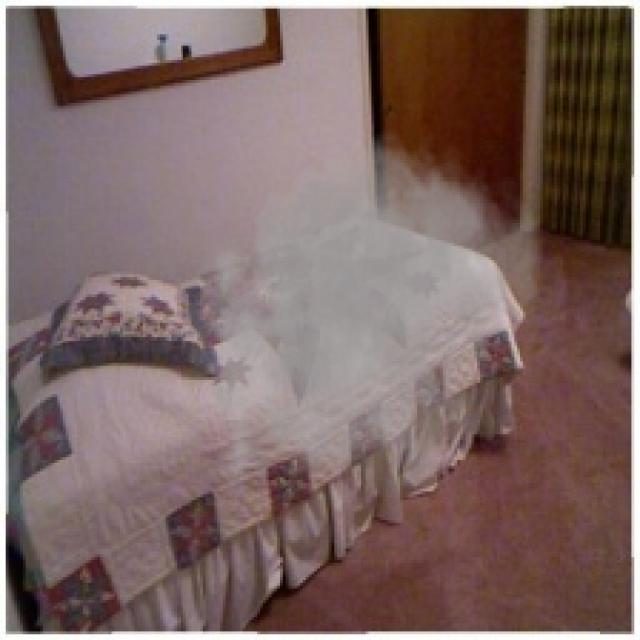Smoke: (188, 120, 554, 509)
